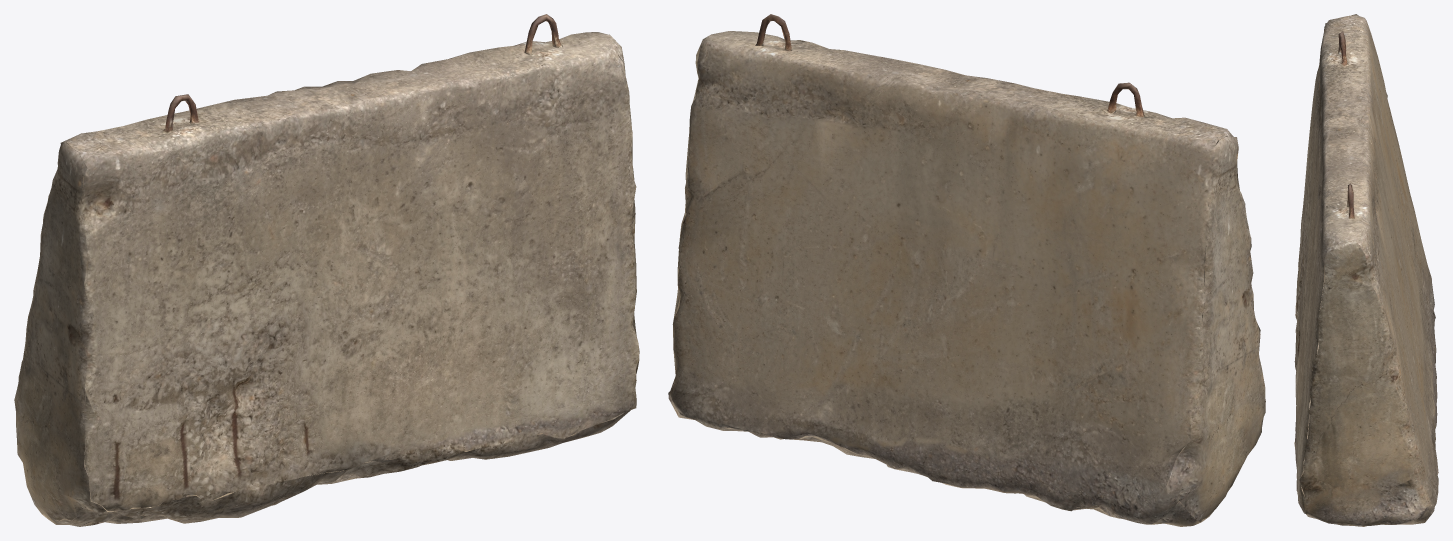
File: barrier.glb
3 renders of one model, left to right at view 1: azimuth 30°, elevation 25°; view 2: azimuth 150°, elevation 25°; view 3: azimuth 270°, elevation 25°, orthographic. The views are drawn at different scales.
Visible parts, largest first — view 1: concrete_road_barrier_02; view 2: concrete_road_barrier_02; view 3: concrete_road_barrier_02.
Boxes of the visible parts, x1,y1,x2,y2 form: concrete_road_barrier_02: [14, 14, 639, 526]; concrete_road_barrier_02: [668, 14, 1265, 526]; concrete_road_barrier_02: [1294, 14, 1438, 526].
Size of the model in its own units: 1.56 by 1.11 by 0.4401.
1 material, 1 textured.
